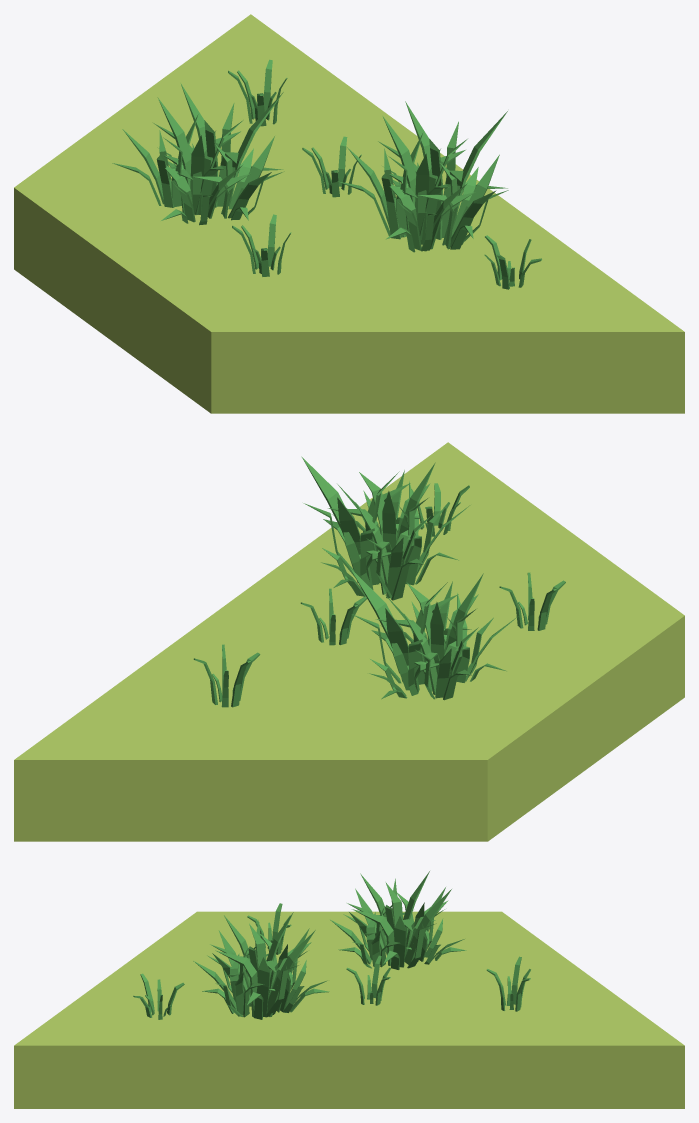
The model's file is bio1.fbx.
3 views of the same model, one above another, from view 1: azimuth 30°, elevation 25°; view 2: azimuth 150°, elevation 25°; view 3: azimuth 270°, elevation 25° (orthographic). The views are drawn at different scales.
Parts seen in each view (by area): view 1: hexbase, Grass_3, Grass_3_1, Grass_1_2, Grass_1_3, Grass_1_1, Grass_1; view 2: hexbase, Grass_3, Grass_3_1, Grass_1_2, Grass_1_3, Grass_1_1, Grass_1; view 3: hexbase, Grass_3, Grass_3_1, Grass_1_2, Grass_1_1, Grass_1, Grass_1_3.
Boxes of the visible parts, x1,y1,x2,y2 form: hexbase: (14,14,684,413); Grass_3: (337,101,508,252); Grass_3_1: (112,83,284,225); Grass_1_2: (228,59,287,126); Grass_1_3: (232,214,291,276); Grass_1_1: (302,136,361,197); Grass_1: (484,235,541,289); hexbase: (14,442,684,841); Grass_3: (301,456,470,600); Grass_3_1: (350,568,519,700); Grass_1_2: (193,644,260,707); Grass_1_3: (499,572,565,630); Grass_1_1: (300,588,367,645); Grass_1: (411,483,469,536); hexbase: (14,911,684,1108); Grass_3: (193,912,329,1019); Grass_3_1: (330,871,466,969); Grass_1_2: (486,956,530,1011); Grass_1_1: (346,955,390,1005); Grass_1: (133,973,184,1019); Grass_1_3: (247,903,291,954).
Bounding box in the file's own units: 47.26 × 24.9 × 100.
